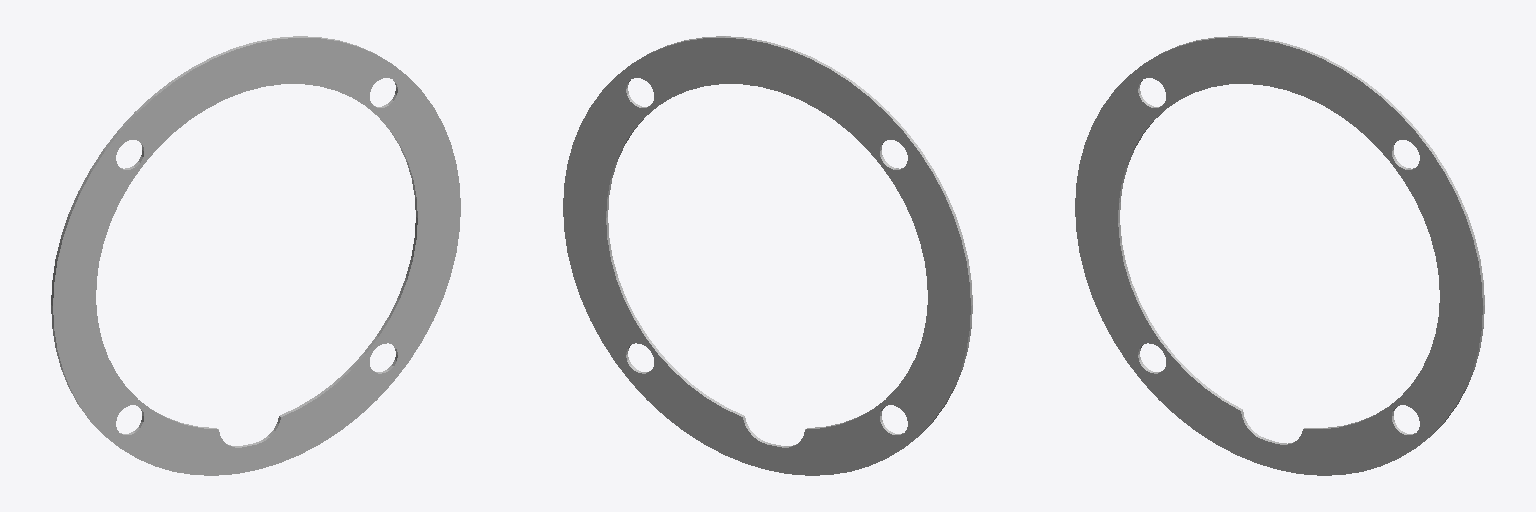
Rendered from 75. Прокладка крышки.obj.
The picture shows the model from 3 angles: view 1: azimuth 30°, elevation 25°; view 2: azimuth 150°, elevation 25°; view 3: azimuth 330°, elevation 25°; orthographic projection.
Visible parts, largest first — view 1: Твердое тело1; view 2: Твердое тело1; view 3: Твердое тело1.
Boxes of the visible parts, <box> form: Твердое тело1: <box>51,36,460,475</box>; Твердое тело1: <box>563,36,972,475</box>; Твердое тело1: <box>1075,36,1484,475</box>.
Bounding box in the file's own units: 116 × 116 × 1.